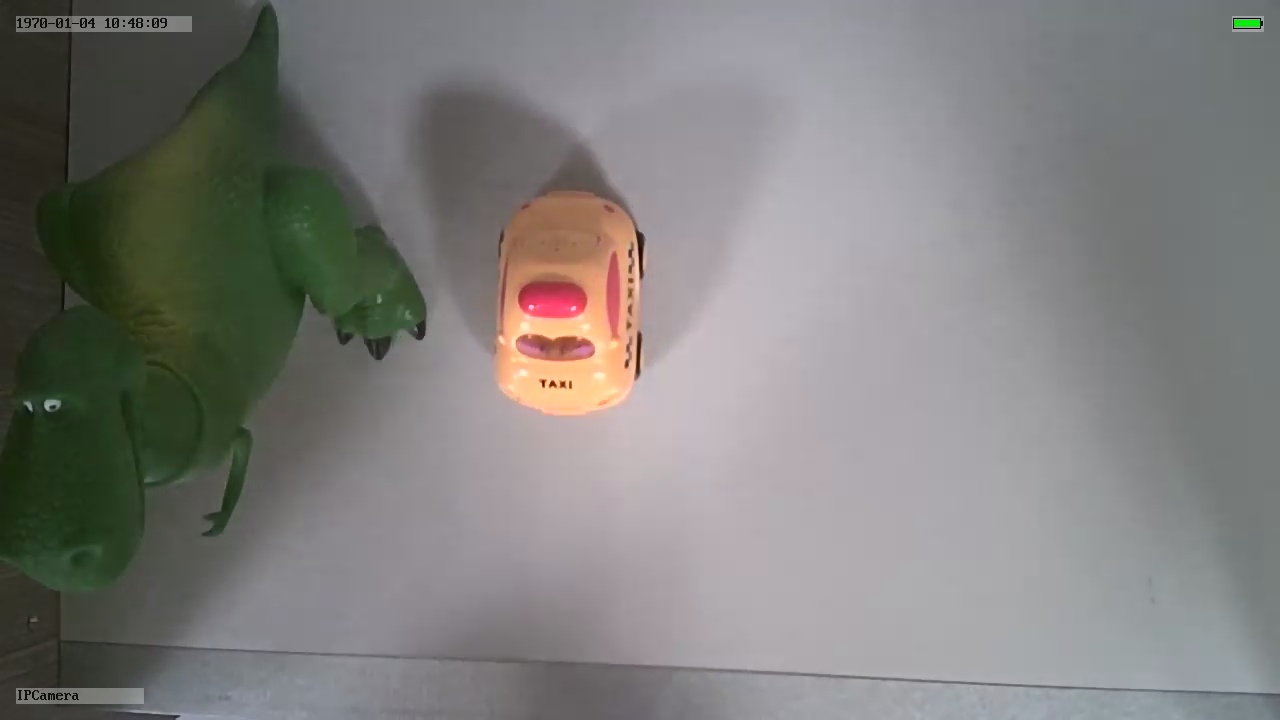car: (488, 180, 655, 419)
rex: (1, 86, 427, 598)
